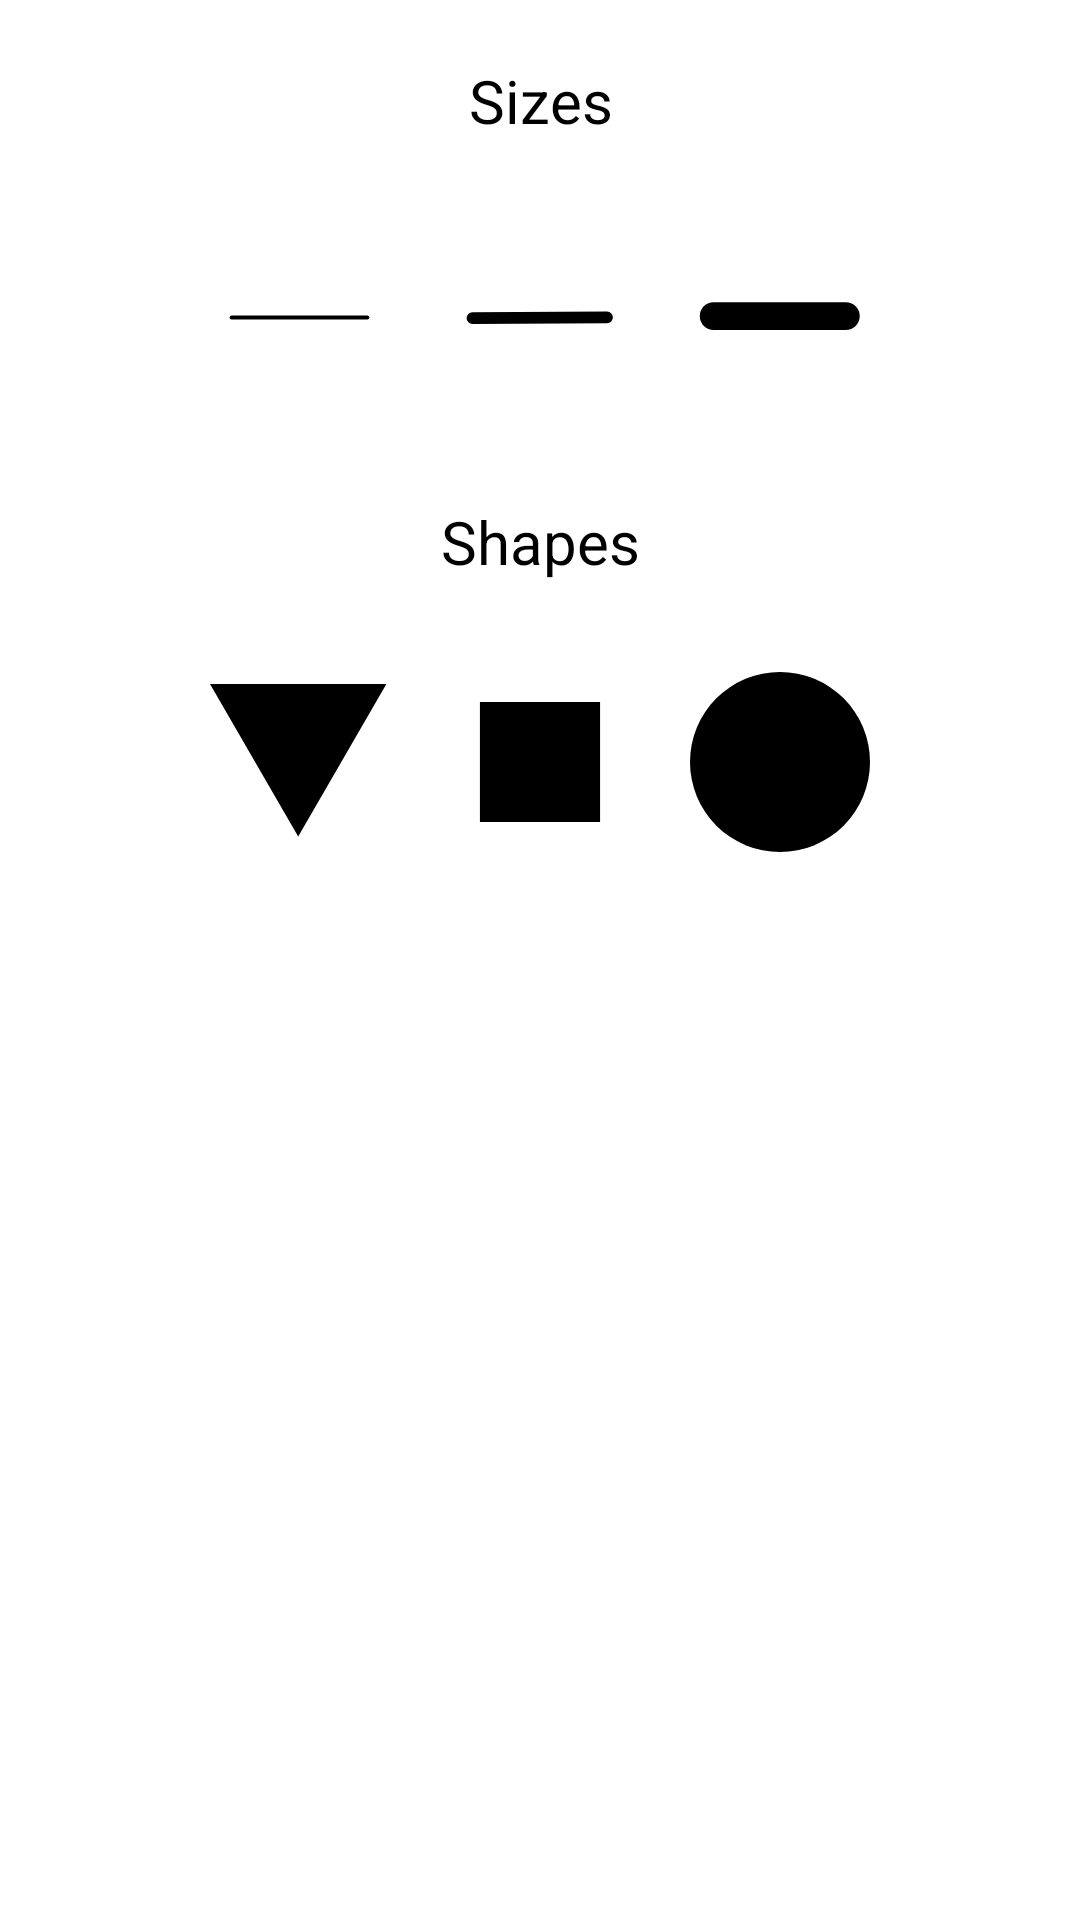

Icons on this 1080w x 1920h Android screen, each with its box as (x1, y1, x2, y2):
Round: (690, 672, 870, 852)
Thick Pen: (699, 302, 860, 330)
Triangle: (210, 684, 387, 837)
